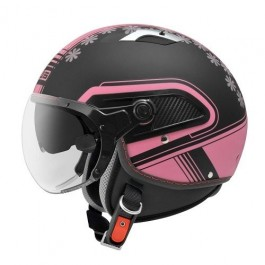helmet: (49, 25, 252, 223)
